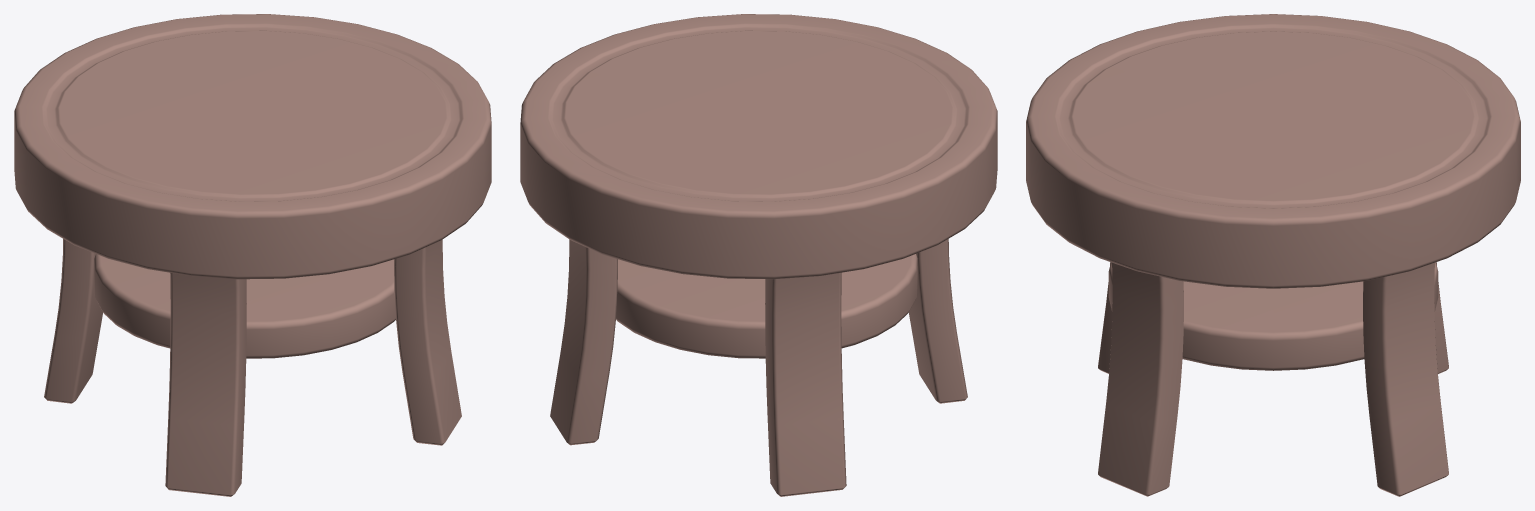
The model's file is Town_12_Table_1.glb.
3 renders of one model, left to right at view 1: azimuth 30°, elevation 25°; view 2: azimuth 150°, elevation 25°; view 3: azimuth 270°, elevation 25°, orthographic. The views are drawn at different scales.
Visible parts, largest first — view 1: Town_12_Table_1; view 2: Town_12_Table_1; view 3: Town_12_Table_1.
Part boxes in pixels (x1,y1,x2,y2): Town_12_Table_1: (14,14,491,496); Town_12_Table_1: (520,14,997,496); Town_12_Table_1: (1026,14,1520,496).
Bounding box in the file's own units: 1.03 × 0.7036 × 1.03.
Materials: 1 (1 with a texture image).
